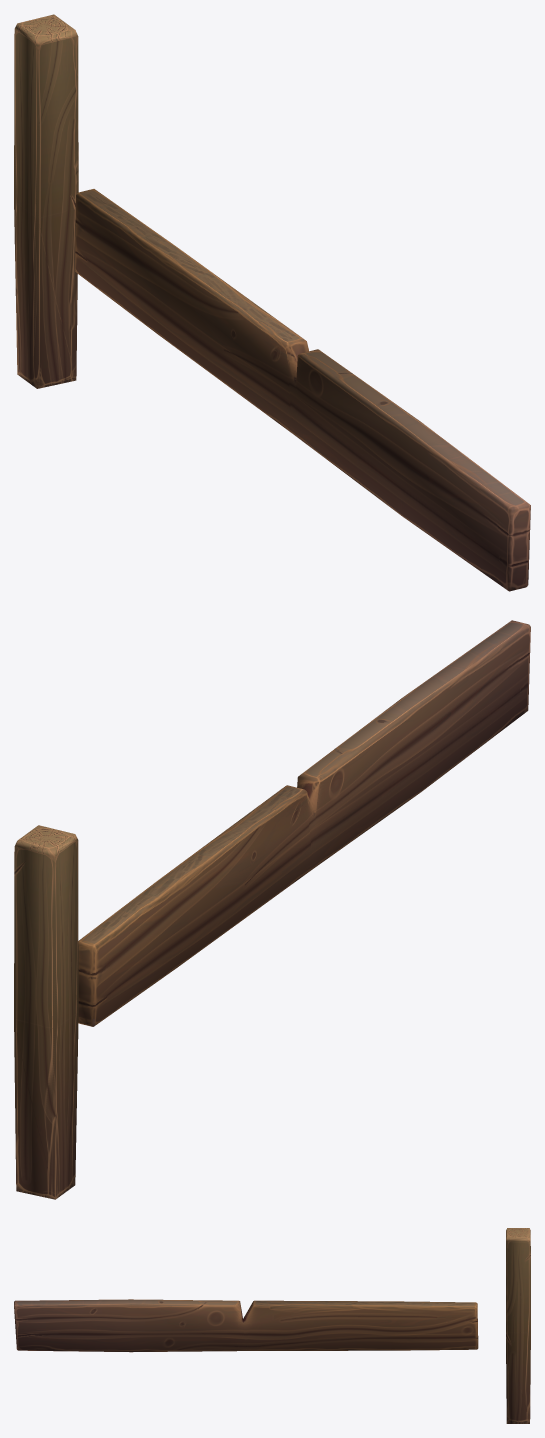
Rendered from Stylized_Wood.glb.
3 views of the same model, one above another, from view 1: azimuth 30°, elevation 25°; view 2: azimuth 150°, elevation 25°; view 3: azimuth 270°, elevation 25° (orthographic). The views are drawn at different scales.
Visible parts, largest first — view 1: Wood_Plank, Wood_Pole; view 2: Wood_Plank, Wood_Pole; view 3: Wood_Plank, Wood_Pole.
Boxes of the visible parts, x1,y1,x2,y2 form: Wood_Plank: (75, 189, 530, 591); Wood_Pole: (14, 14, 78, 388); Wood_Plank: (78, 620, 530, 1026); Wood_Pole: (14, 825, 78, 1199); Wood_Plank: (14, 1299, 478, 1352); Wood_Pole: (506, 1228, 530, 1423).
Size of the model in its own units: 0.106 by 0.8651 by 2.18.
Materials: 2 (2 with a texture image).
